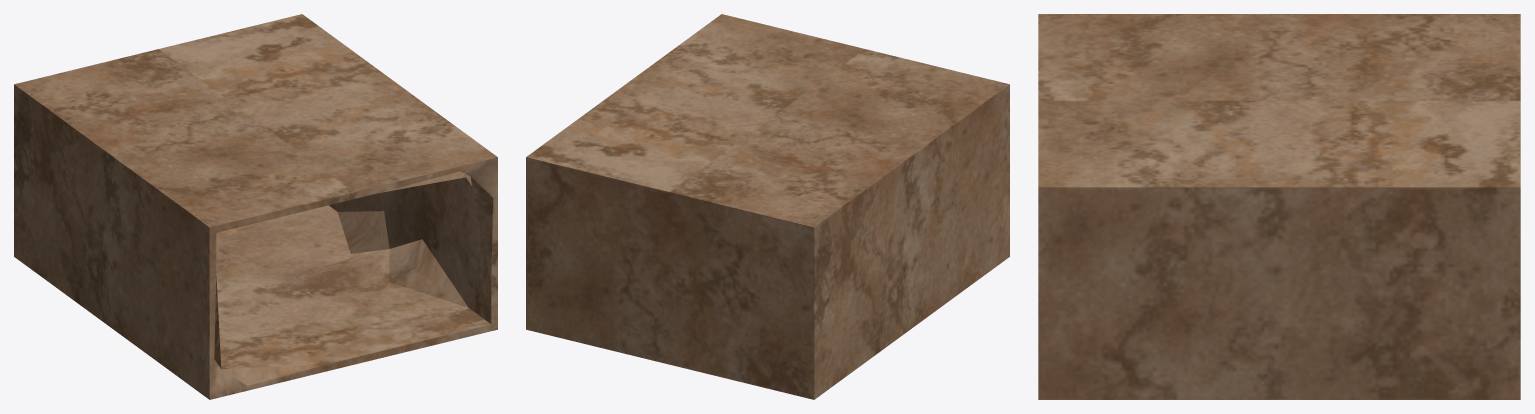
The model's file is Drawer 3.fbx.
The picture shows the model from 3 angles, left to right: view 1: azimuth 30°, elevation 25°; view 2: azimuth 150°, elevation 25°; view 3: azimuth 270°, elevation 25°; orthographic projection. The views are drawn at different scales.
Parts seen in each view (by area): view 1: Cube.003; view 2: Cube.003; view 3: Cube.003.
Part boxes in pixels (bbox=[...]): Cube.003: bbox=[14, 14, 497, 399]; Cube.003: bbox=[526, 14, 1009, 399]; Cube.003: bbox=[1038, 14, 1520, 399].
Size of the model in its own units: 126 by 72.21 by 148.
1 material, 1 textured.
